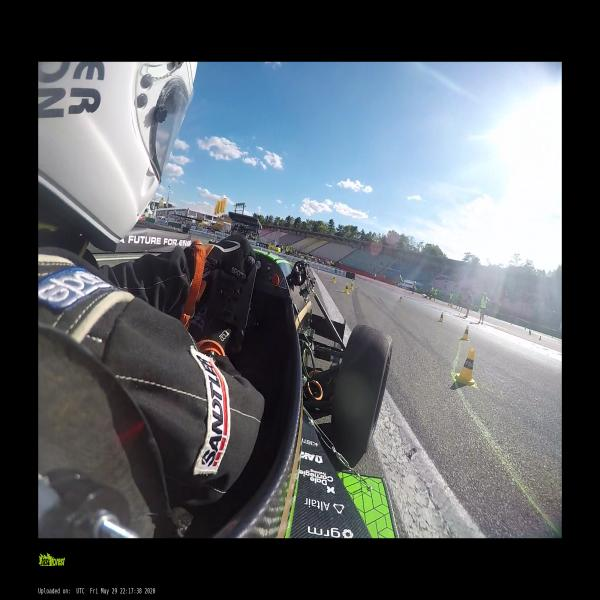yellow_cone: (453, 347, 479, 384), (459, 325, 470, 342), (343, 283, 349, 294), (438, 312, 443, 323), (398, 296, 403, 302), (332, 276, 335, 283), (351, 282, 353, 290), (539, 335, 541, 341), (316, 267, 318, 272)
